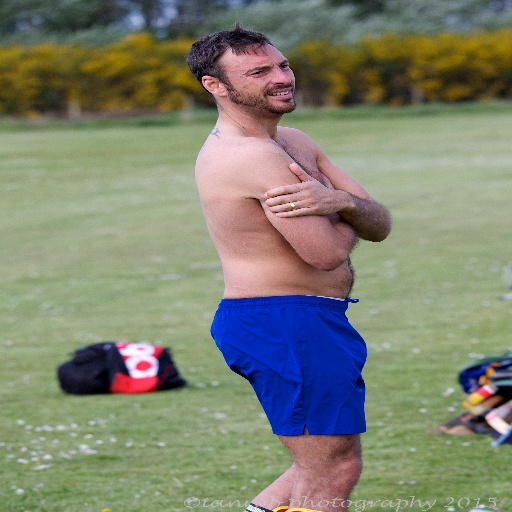hand: (260, 161, 349, 217)
